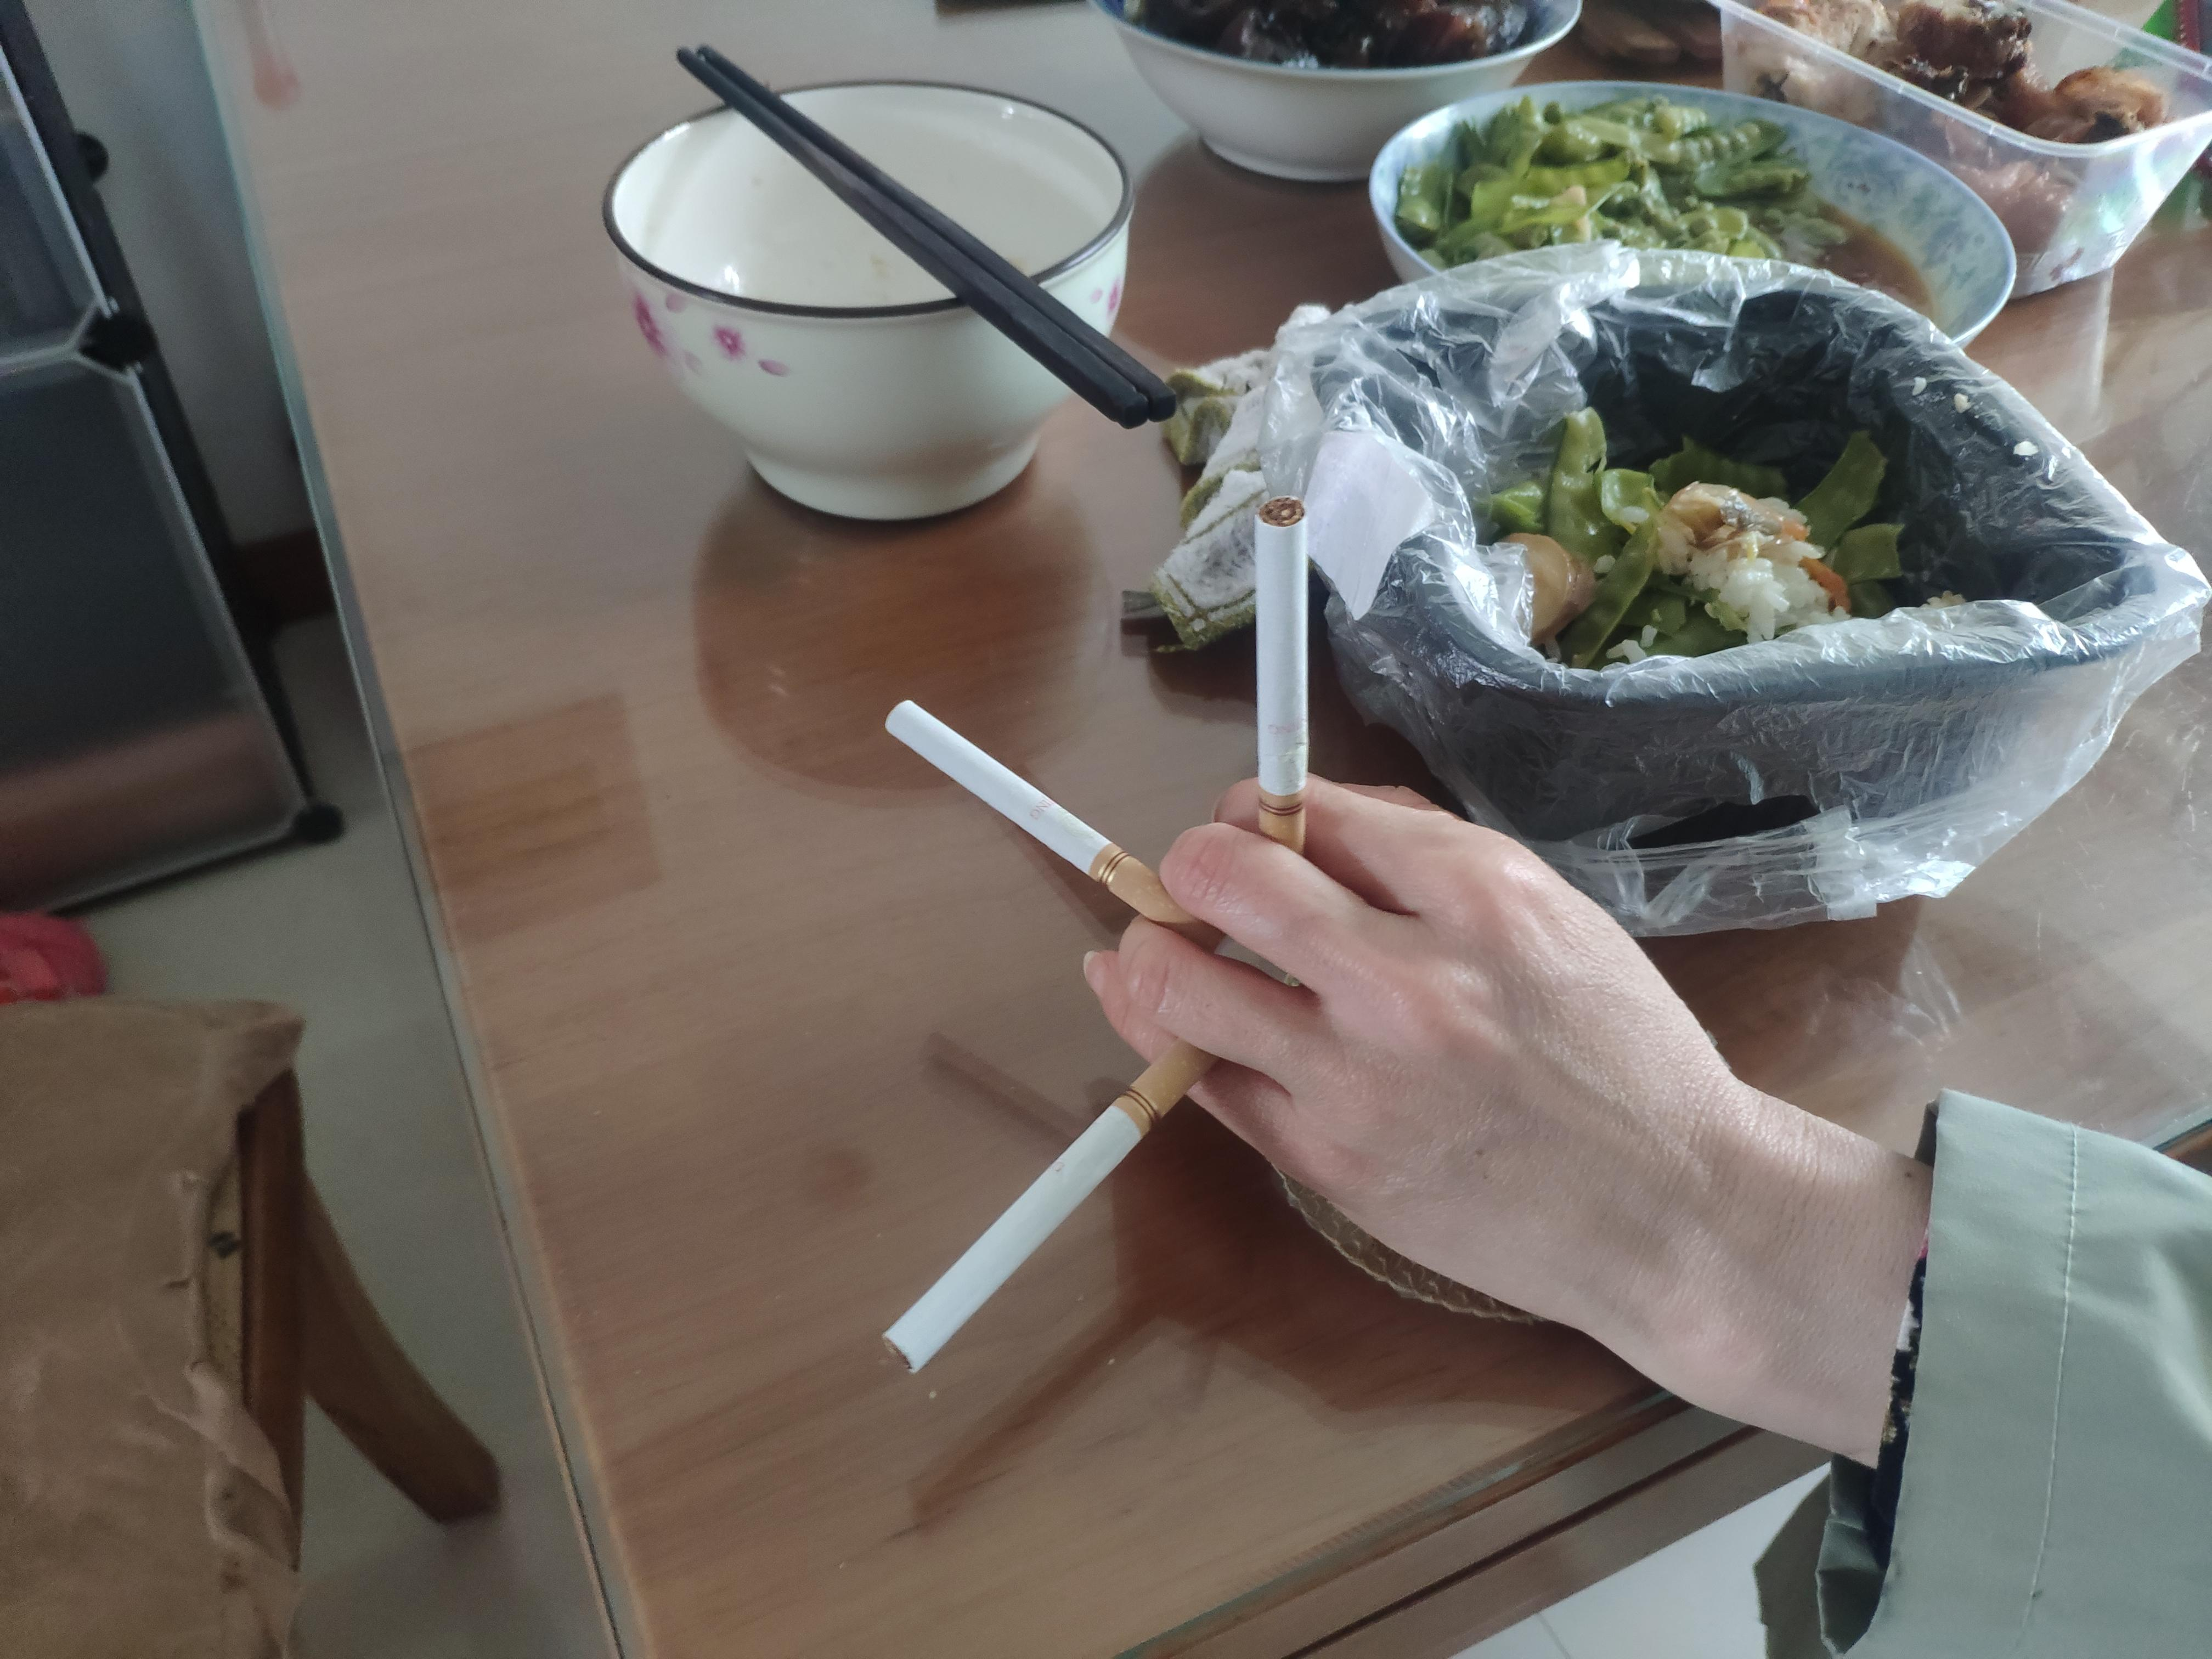smoke: (887, 1026, 1226, 1375), (887, 697, 1230, 960), (1258, 493, 1310, 885)
